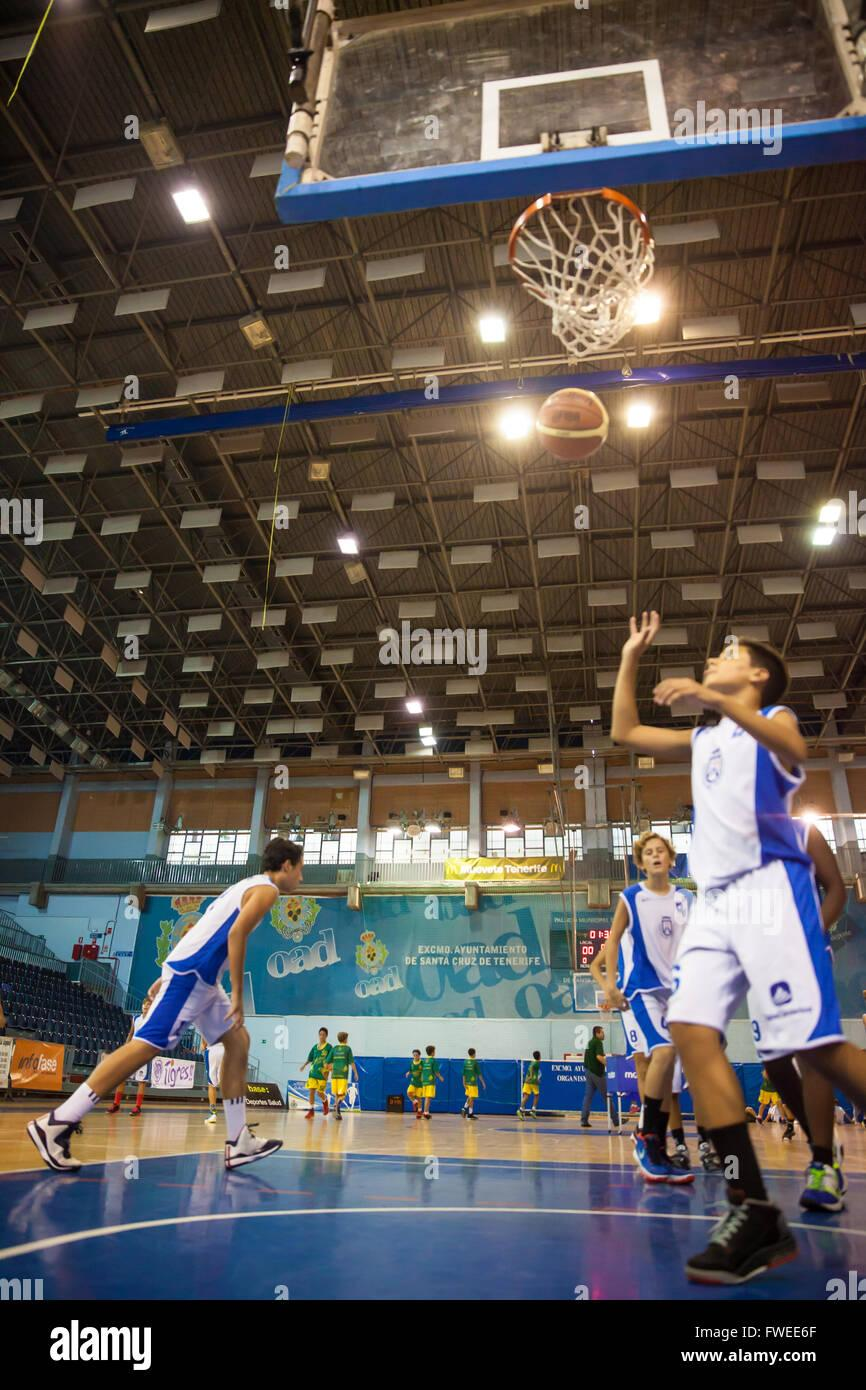basketball: (536, 386, 610, 466)
